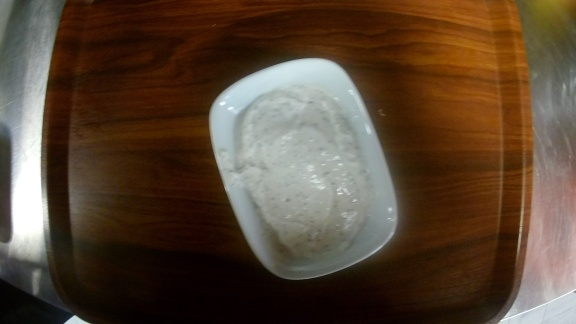haydari: (207, 57, 399, 280)
